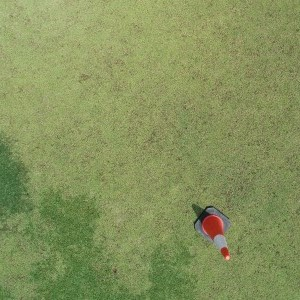traffic cone: (194, 205, 230, 260)
